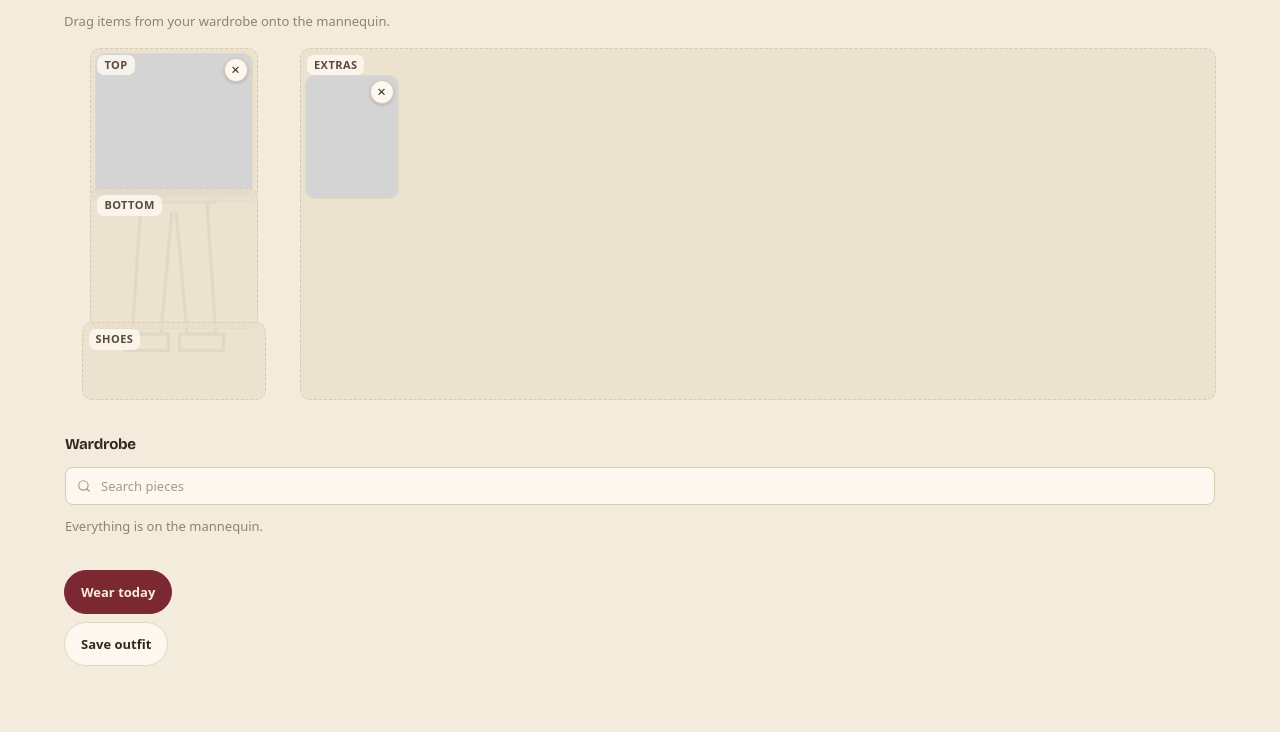
Assemble save-outfit › saves the placed set via saveOutfit with source "manual" and locks to "Saved ✓"
Check: the text "Top" is shown, box [97, 54, 134, 75]
Click the button "Save outfit": (116, 644) [64, 622, 168, 666]
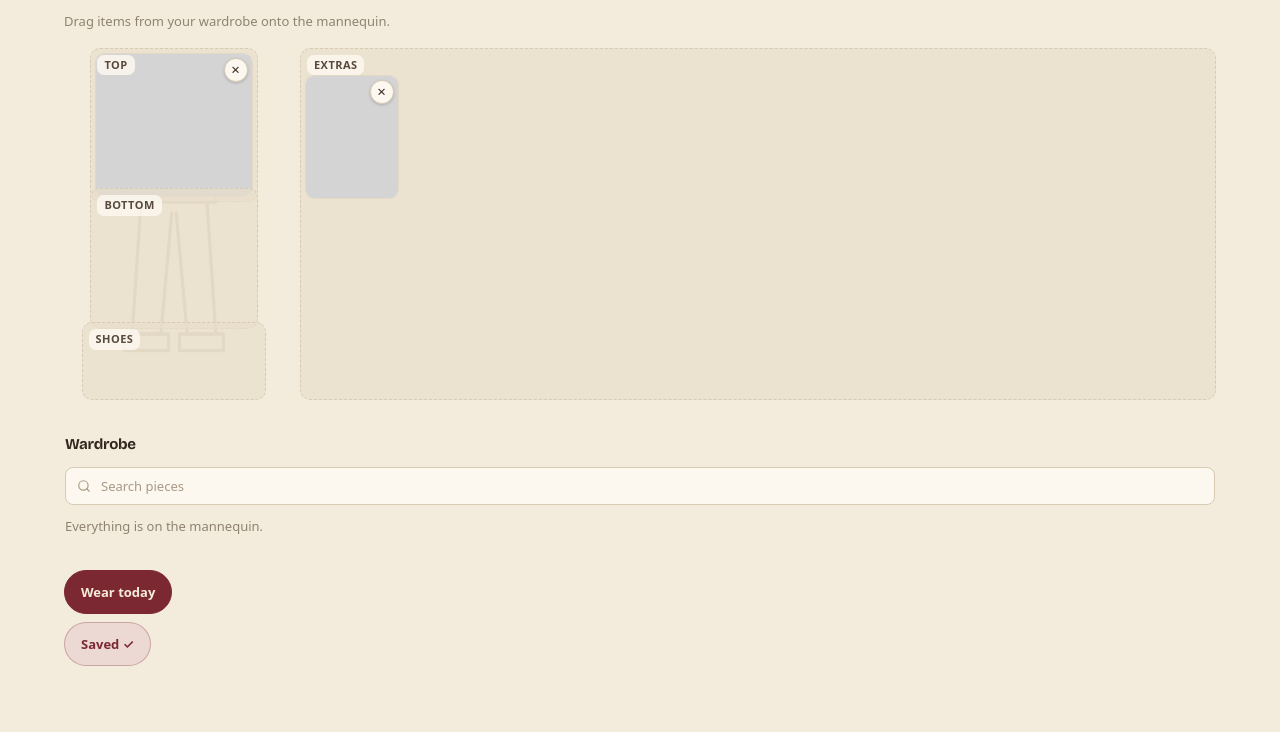
Check: the button "Saved ✓" is disabled, box [64, 622, 151, 666]
